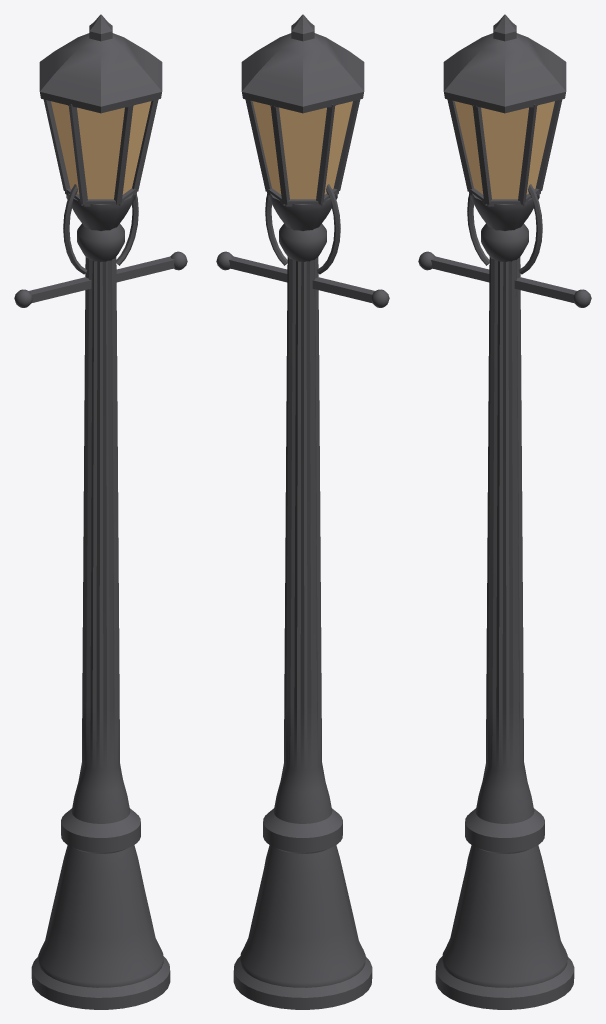
File: StreetLamp_Paris.fbx
3 renders of one model, left to right at view 1: azimuth 30°, elevation 25°; view 2: azimuth 150°, elevation 25°; view 3: azimuth 330°, elevation 25°, orthographic.
Parts seen in each view (by area): view 1: Post, Lantern; view 2: Post, Lantern; view 3: Post, Lantern.
Boxes of the visible parts, x1,y1,x2,y2 form: Post: [14, 14, 187, 1009]; Lantern: [51, 101, 151, 199]; Post: [216, 14, 389, 1009]; Lantern: [252, 101, 352, 199]; Post: [418, 14, 591, 1009]; Lantern: [454, 101, 554, 199].
Size of the model in its own units: 0.74 by 4 by 0.52.
